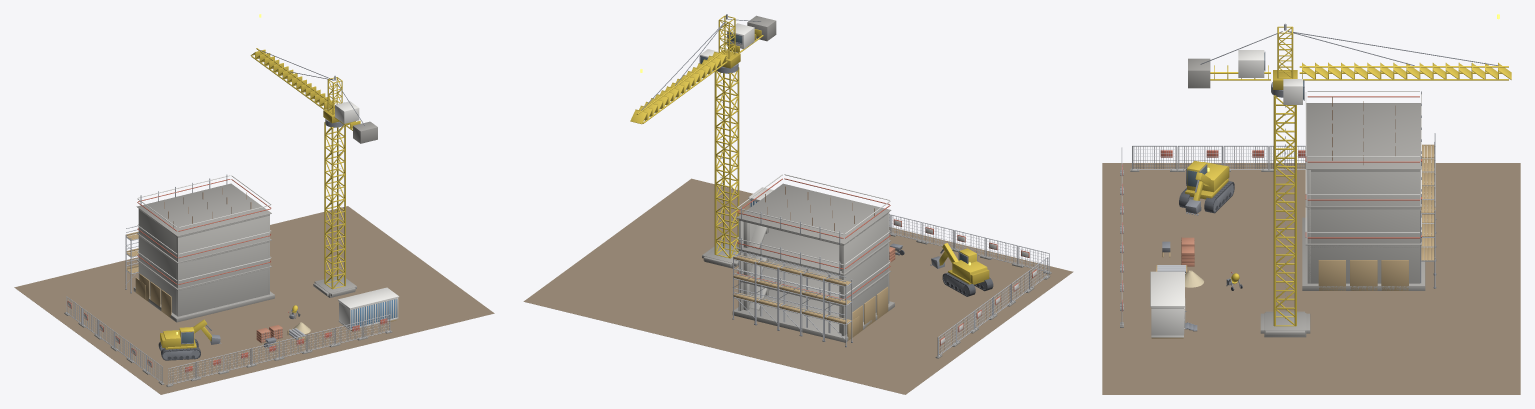
The model's file is th46_baustelle.glb.
3 renders of one model, left to right at view 1: azimuth 30°, elevation 25°; view 2: azimuth 150°, elevation 25°; view 3: azimuth 270°, elevation 25°, orthographic. The views are drawn at different scales.
Parts seen in each view (by area): view 1: Cube, Cube.076, Cube.035, Cube.074, Cube.001, Cube.572, Cube.506, Cylinder.014, Cube.303, Cube.304; view 2: Cube, Cube.035, Cube.074, Cube.001, Cube.019, Cube.003, Cube.075, Cylinder.017, Cube.303; view 3: Cube, Cube.075, Cube.035, Cube.572, Cube.001, Cube.550, Cube.080, Cube.082, Cube.081, Cube.195, Cube.304, Cube.303 (+8 smaller).
Part boxes in pixels (box(x1,y1,x2,y2)): Cube: box(14, 206, 494, 394); Cube.076: box(176, 216, 269, 316); Cube.035: box(136, 183, 271, 236); Cube.074: box(138, 209, 179, 316); Cube.001: box(133, 287, 274, 322); Cube.572: box(338, 287, 399, 308); Cube.506: box(351, 299, 396, 328); Cylinder.014: box(331, 127, 333, 289); Cube.303: box(353, 121, 377, 143); Cube.304: box(335, 101, 359, 123); Cube: box(523, 178, 1073, 394); Cube.035: box(736, 183, 891, 244); Cube.074: box(841, 214, 887, 335); Cube.001: box(732, 289, 894, 342); Cube.019: box(736, 228, 891, 274); Cube.003: box(749, 259, 891, 300); Cube.075: box(738, 220, 770, 310); Cylinder.017: box(714, 71, 716, 254); Cube.303: box(747, 15, 776, 41); Cube: box(1102, 163, 1520, 394); Cube.075: box(1307, 171, 1419, 283); Cube.035: box(1305, 103, 1421, 169); Cube.572: box(1150, 271, 1184, 307); Cube.001: box(1302, 217, 1425, 290); Cube.550: box(1151, 309, 1183, 335); Cube.080: box(1318, 260, 1345, 290); Cube.082: box(1381, 260, 1408, 290); Cube.081: box(1350, 260, 1377, 290); Cube.195: box(1264, 312, 1306, 337); Cube.304: box(1238, 50, 1264, 77); Cube.303: box(1188, 58, 1210, 88).
Bounding box in the file's own units: 42 × 26.52 × 32.
